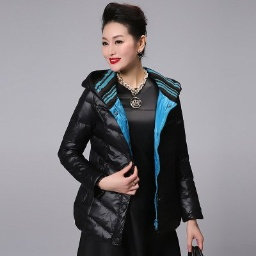face: (100, 2, 150, 72)
